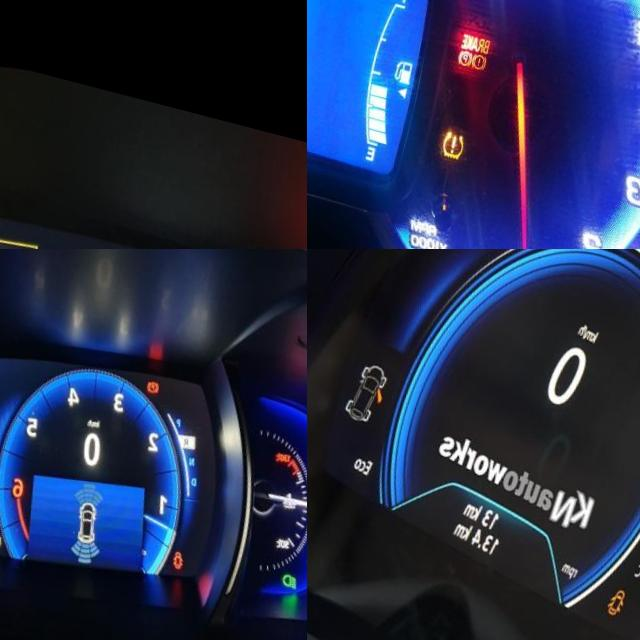Doors: (625, 561, 640, 597), (189, 529, 203, 549)
Low beam: (296, 544, 307, 565)
